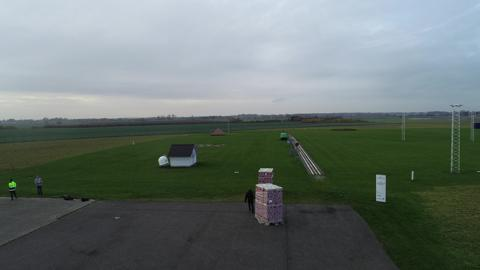RockwoolPallet: (258, 166, 274, 183)
